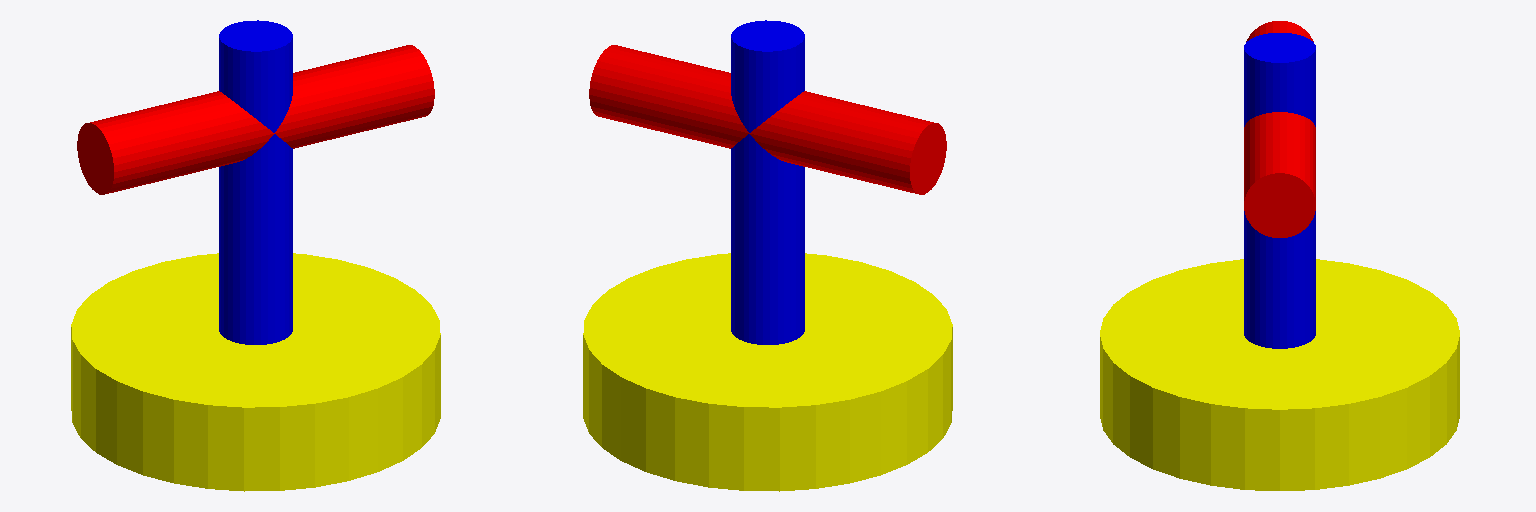
URDF robot description (pan_tilt):
<?xml version="1.0"?>

<robot name = "pan_tilt">
    <link name = "base_link">
        <inertial>
            <mass value="1"/>
            <inertia ixx="1.0" ixy="0.0" ixz="0.0" iyy="1.0" iyz="0.0" izz="1.0"/>
        </inertial>
        
        <visual> 
            <geometry>
                <cylinder length="0.1" radius="0.2"/>
            </geometry>
            <origin rpy="0 0 0" xyz="0 0 0"/>
            <material name="yellow_material">s
                <color rgba="1 1 0 1"/>
            </material>
        </visual>
        
        <collision>     
            <geometry>
                <cylinder length="0.03" radius="0.2"/>
            </geometry>
            <origin rpy="0 0 0" xyz="0 0 0"/>
        </collision>
    </link>

    <joint name="first_joint" type="revolute">
        <parent link="base_link"/>
        <child link="pan_link"/>
        <origin xyz="0 0 0.1"/>
        <axis xyz="0 0 1" />
        <limit effort="300" velocity="0.1" lower="-3.14" upper="3.14"/>
        <dynamics damping="50" friction="1"/>
    </joint>

    <link name = "pan_link">
        <inertial>
            <mass value="1"/>
            <inertia ixx="1.0" ixy="0.0" ixz="0.0" iyy="1.0" iyz="0.0" izz="1.0"/>
        </inertial>
        <visual>    
            <geometry>
                <cylinder length="0.4" radius="0.04"/>
            </geometry>
            <origin rpy="0 0 0" xyz="0 0 0.1"/>
            <material name="blue_material">
                <color rgba="0 0 1 1"/>
            </material>
        </visual>
        <collision>     
            <geometry>
                <cylinder length="0.4" radius="0.6"/>
            </geometry>
            <origin rpy="0 0 0" xyz="0 0 0.1"/>
        </collision>
    </link>

    <joint name="second_joint" type="revolute">
        <parent link="pan_link"/>
        <child link="tilt_link"/>
        <origin xyz="0 0 0.2"/>
        <axis xyz="0 1 0" />
        <limit effort="300" velocity="0.1" lower="-4.64" upper="-1.5"/>
        <dynamics damping="50" friction="1"/>
    </joint>

    <link name = "tilt_link">
        <inertial>
            <mass value="1"/>
            <inertia ixx="1.0" ixy="0.0" ixz="0.0" iyy="1.0" iyz="0.0" izz="1.0"/>
        </inertial>
        <visual>    
            <geometry>
                <cylinder length="0.4" radius="0.04"/>
            </geometry>
            <origin rpy="0 1.5 0" xyz="0 0 0"/>
            <material name="green_material">
                <color rgba="1 0 0 1"/>
            </material>
        </visual>
        <collision>     
            <geometry>
                <cylinder length="0.4" radius="0.06"/>
            </geometry>
            <origin rpy="0 1.5 0" xyz="0 0 0"/>
        </collision>
    </link>
</robot>

--- Render facts (derived) ---
The picture shows the robot from 3 angles, left to right: view 1: azimuth 30°, elevation 25°; view 2: azimuth 150°, elevation 25°; view 3: azimuth 270°, elevation 25°; orthographic projection.
Model pan_tilt with 3 links and 2 joints (2 revolute), rooted at base_link, posed joints at zero except 1 at the middle of their limits (second_joint = -3.07).
Links seen in each view (by area): view 1: base_link, tilt_link, pan_link; view 2: base_link, tilt_link, pan_link; view 3: base_link, pan_link, tilt_link.
Link boxes in pixels (x1,y1,x2,y2): base_link: (71,253,440,491); tilt_link: (77,45,434,194); pan_link: (219,20,292,344); base_link: (583,253,952,491); tilt_link: (589,45,946,194); pan_link: (731,20,804,344); base_link: (1100,259,1459,490); pan_link: (1244,33,1315,348); tilt_link: (1244,21,1315,237).
Bounding box of the posed robot: 0.4001 × 0.4 × 0.45 m (x, y, z).
Geometry: primitives only (box / cylinder / sphere), no mesh files.